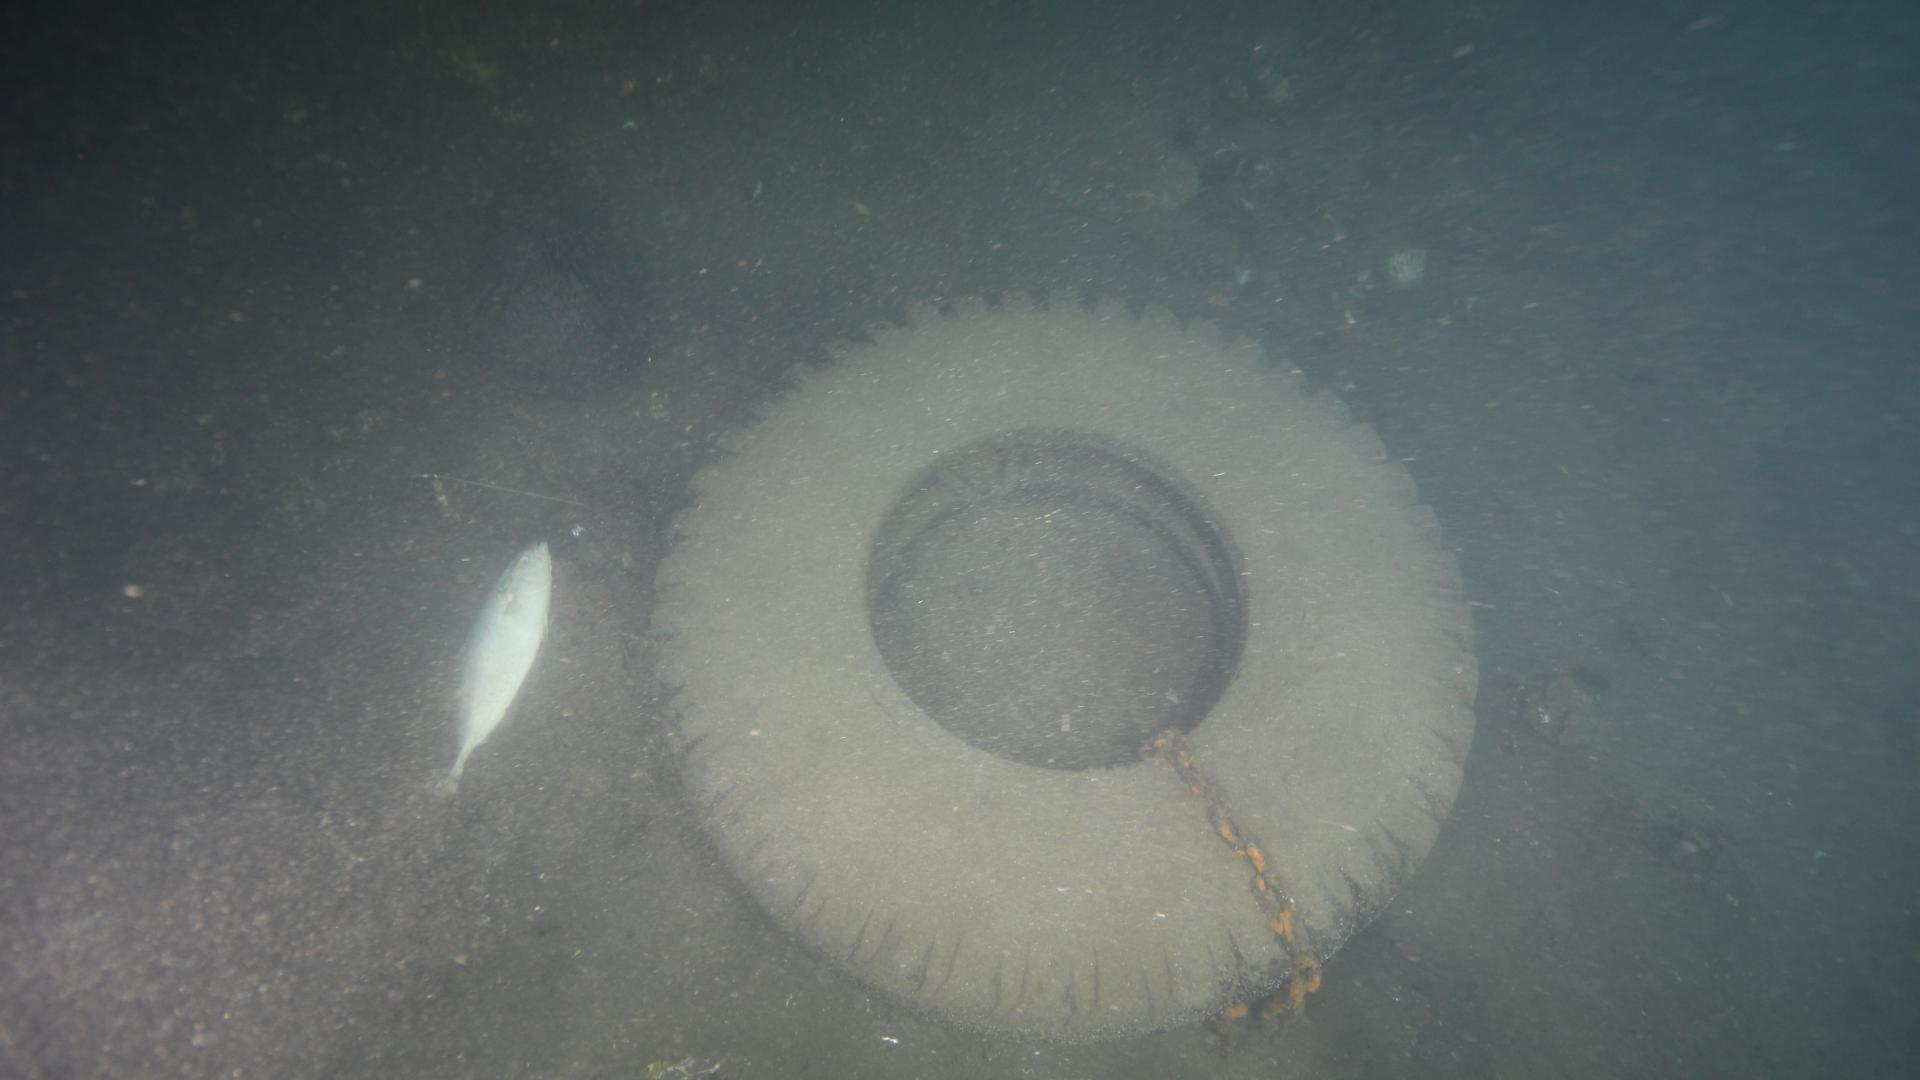tire: (642, 284, 1491, 1052)
